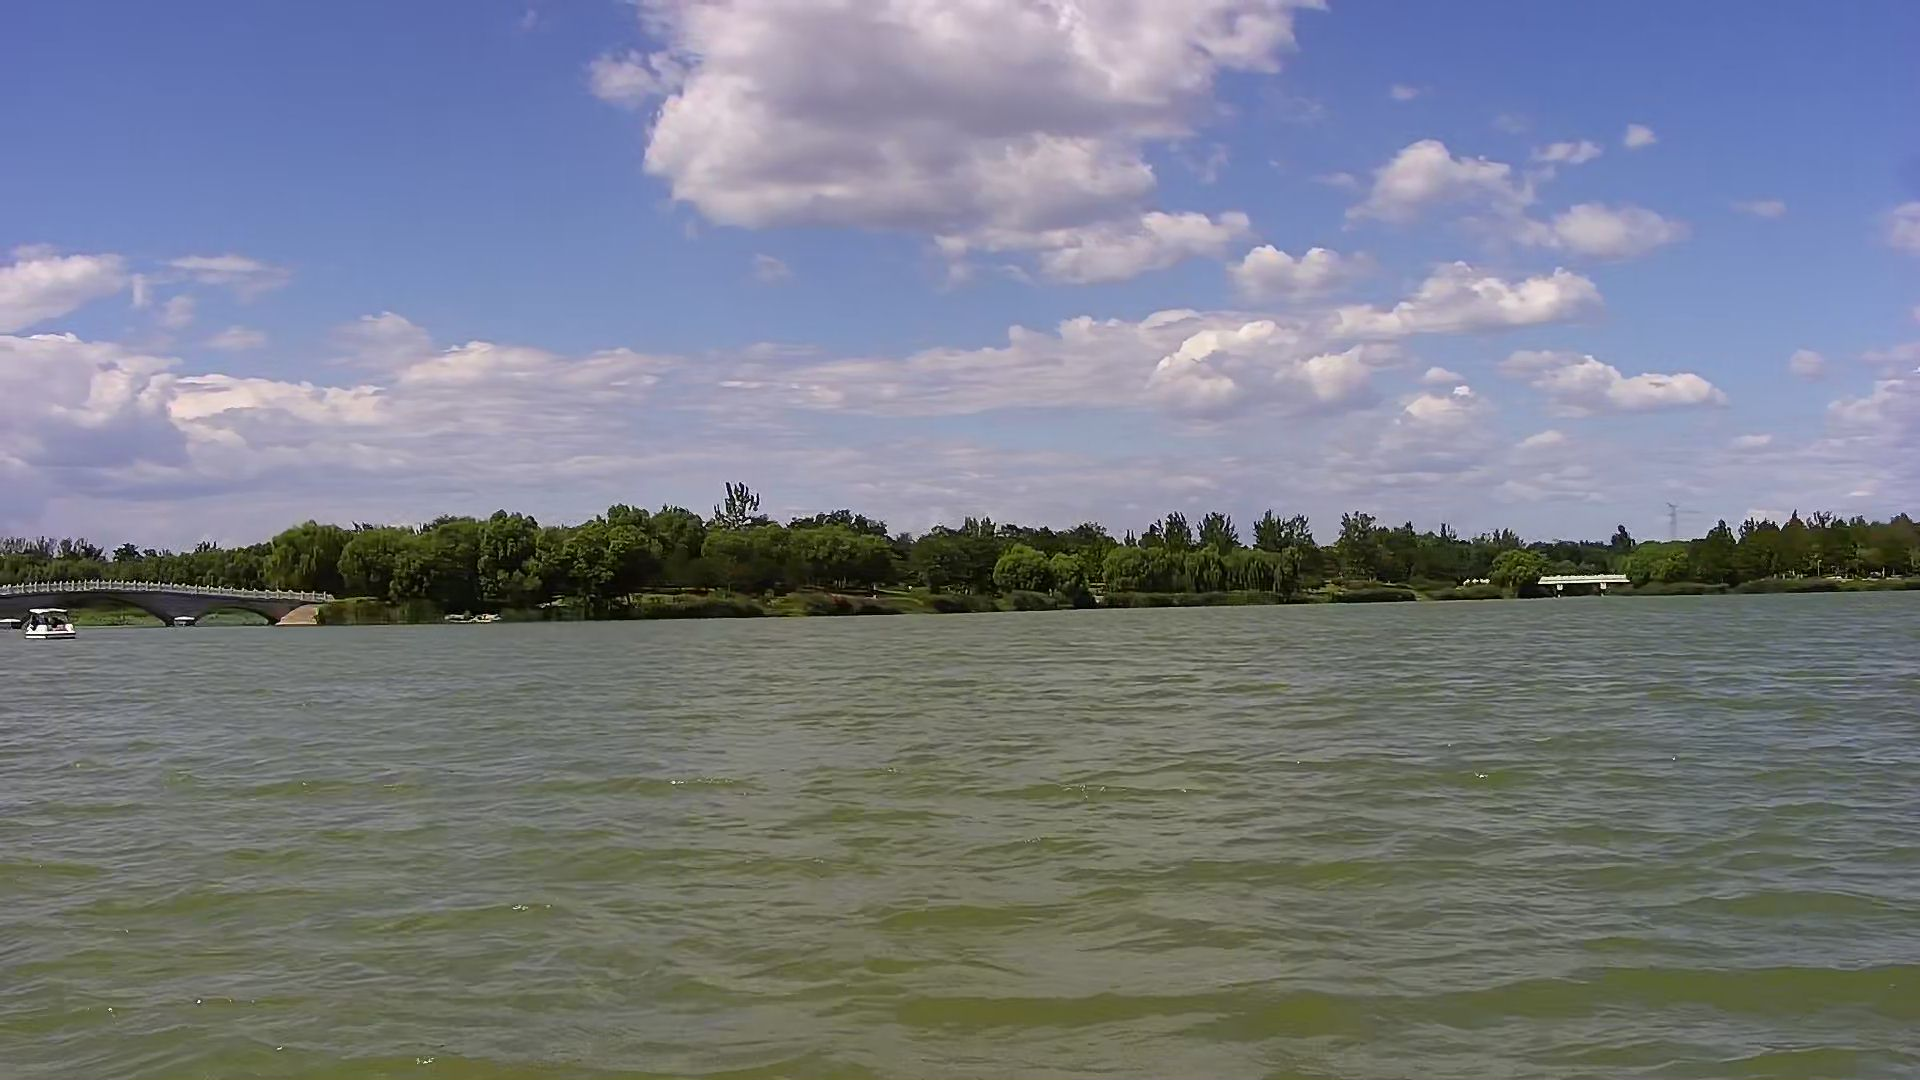boat: (29, 600, 99, 654)
bridge: (9, 566, 334, 630)
